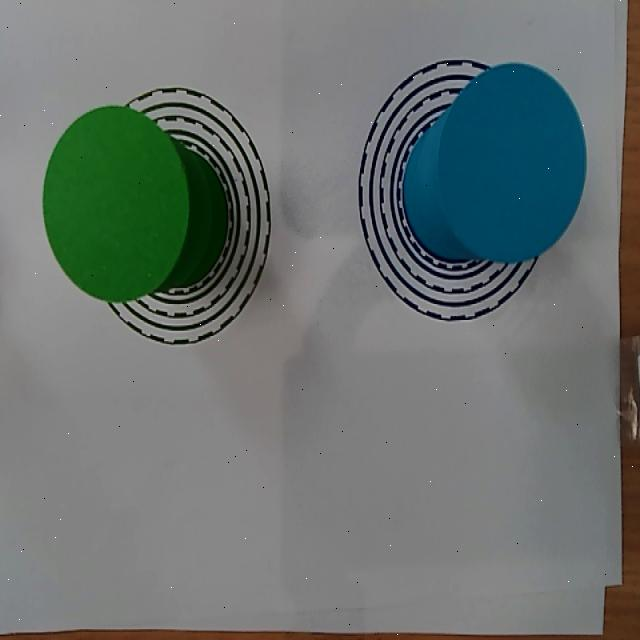b: (438, 62, 585, 261)
g: (43, 105, 190, 302)
